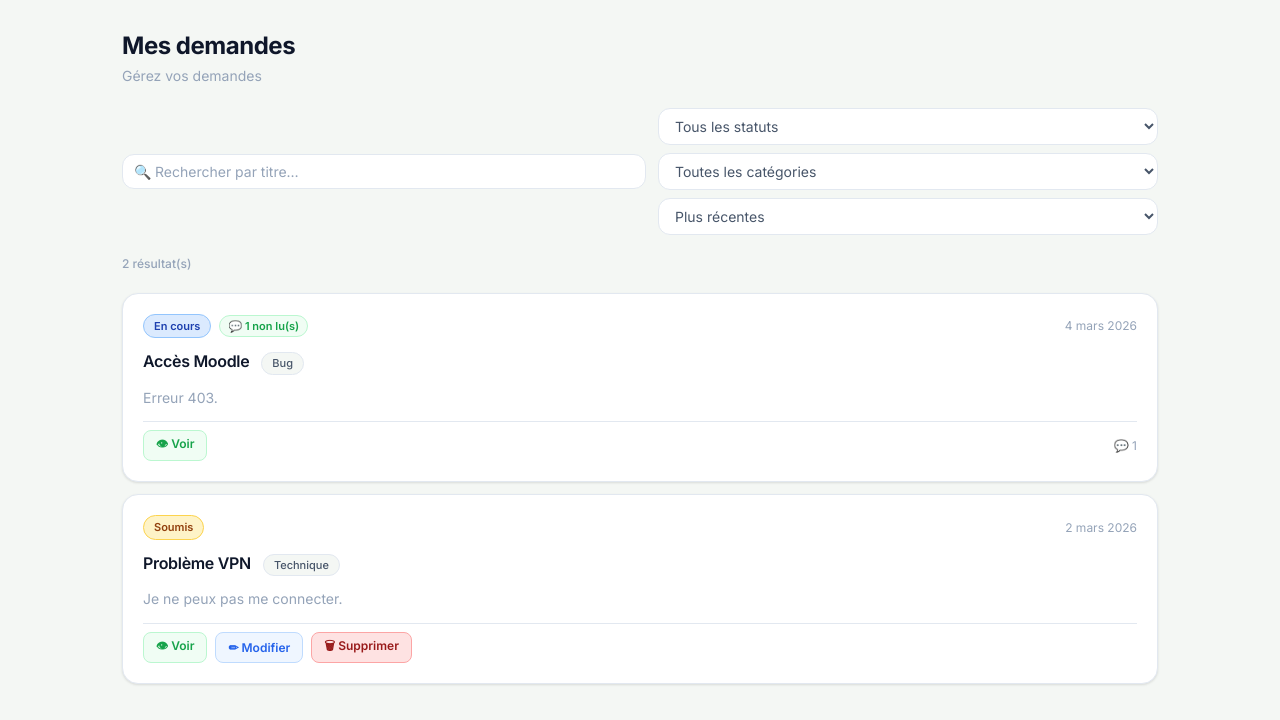
Test case: MyRequestsPage — recherche › filtre les demandes selon la saisie de recherche
Expected: the heading "Problème VPN" is shown, x1=143 y1=552 x2=251 y2=574
Type "VPN" into the field with placeholder "Rechercher par titre…". click: (384,171)
box: x1=122 y1=154 x2=646 y2=188
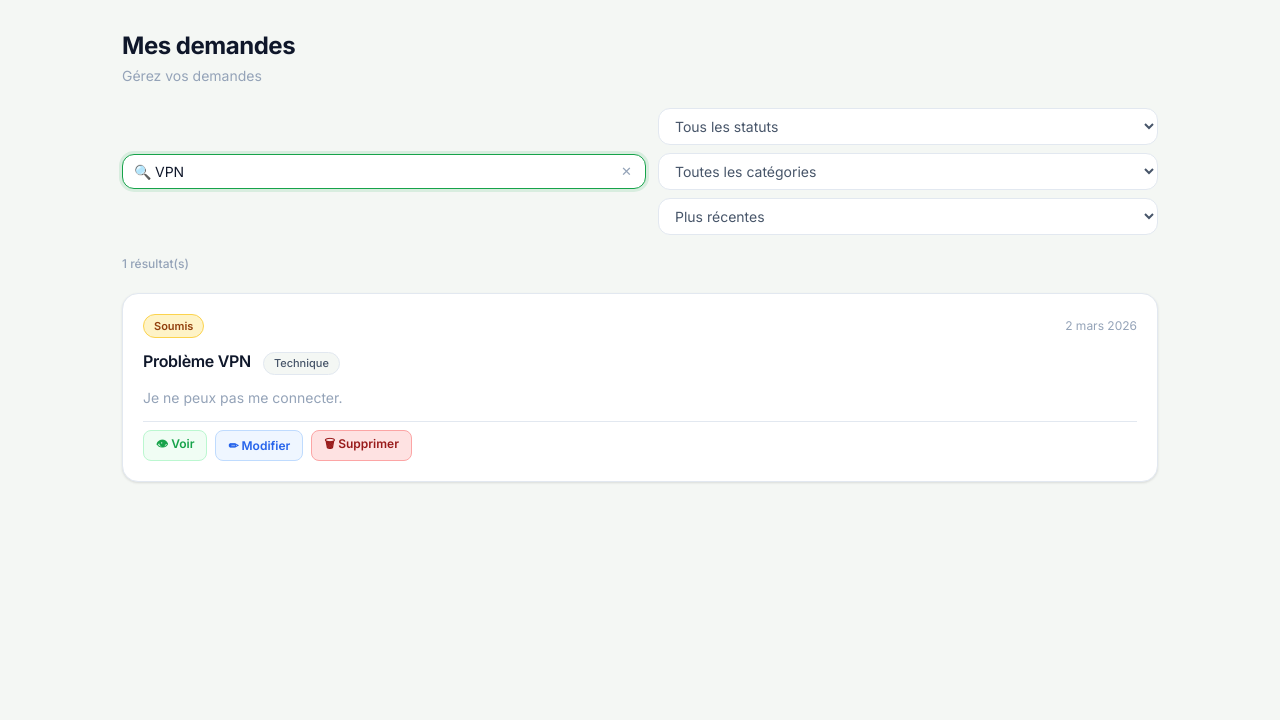
Expected: the heading "Problème VPN" is shown, x1=143 y1=350 x2=251 y2=372
Expected: the heading "Accès Moodle" is gone
